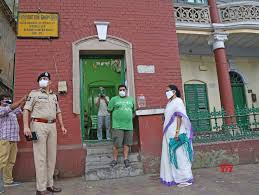mask: (165, 85, 174, 99), (39, 77, 48, 87), (1, 95, 10, 105), (119, 86, 126, 96)
